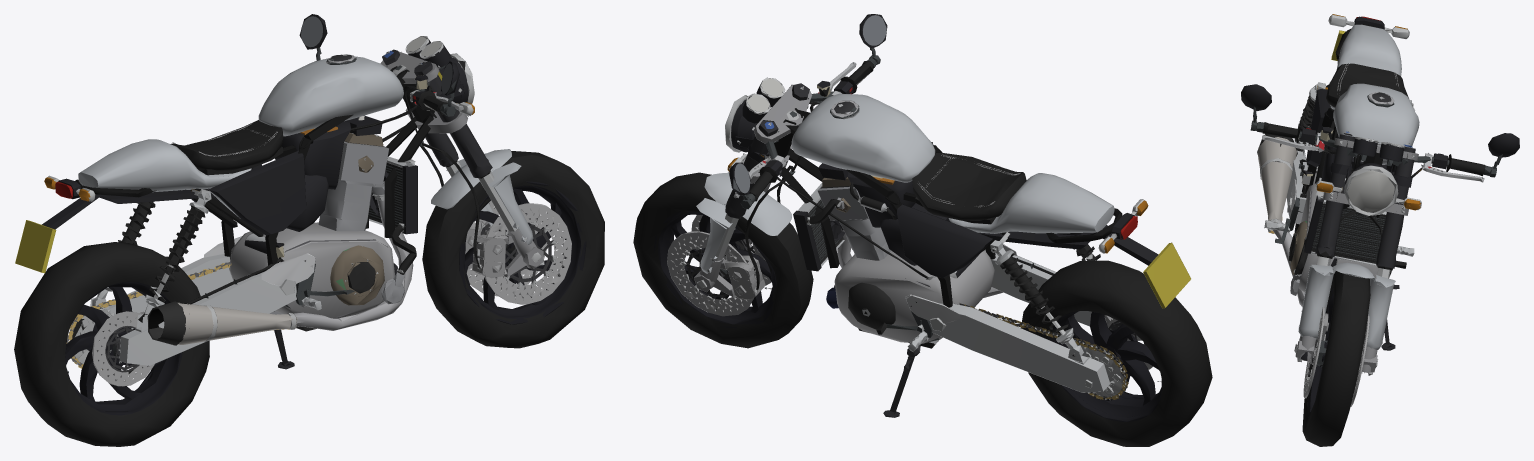
The model's file is SM_Prop_house_bike_4.glb.
3 renders of one model, left to right at view 1: azimuth 30°, elevation 25°; view 2: azimuth 150°, elevation 25°; view 3: azimuth 270°, elevation 25°, orthographic. The views are drawn at different scales.
Parts seen in each view (by area): view 1: SM_Prop_house_bike_4; view 2: SM_Prop_house_bike_4; view 3: SM_Prop_house_bike_4.
Boxes of the visible parts, left/top/right/bottom form: SM_Prop_house_bike_4: left=14, top=14, right=604, bottom=446; SM_Prop_house_bike_4: left=633, top=14, right=1212, bottom=446; SM_Prop_house_bike_4: left=1241, top=14, right=1519, bottom=446.
Size of the model in its own units: 2.08 by 1.16 by 0.9505.
